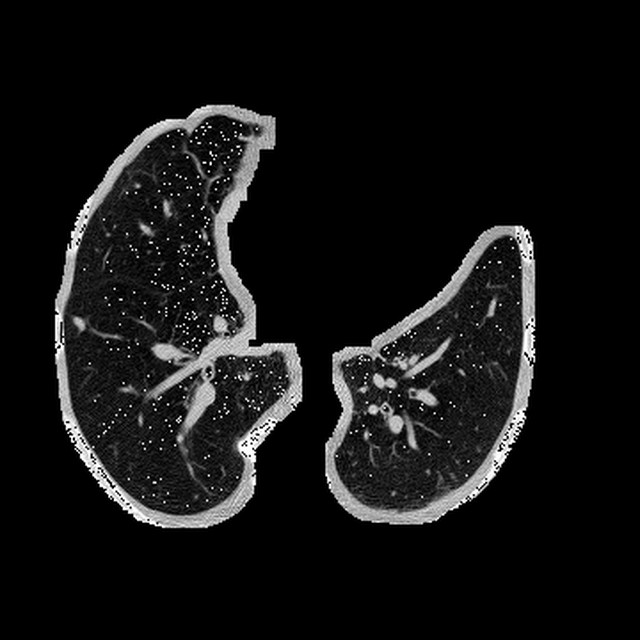PN: (73, 316, 84, 327)
